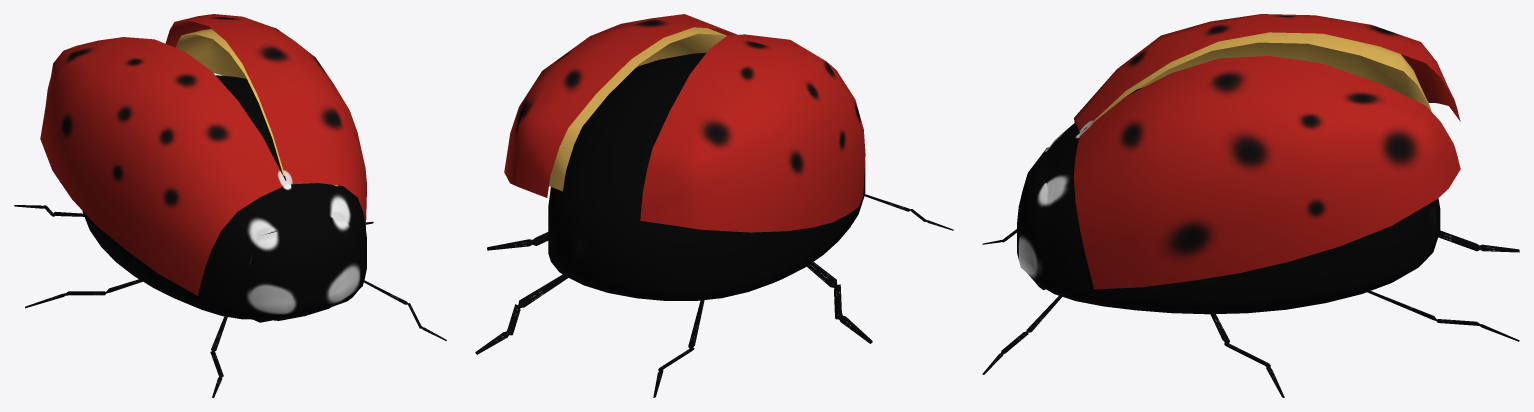
The model's file is Mariquita.fbx.
3 renders of one model, left to right at view 1: azimuth 30°, elevation 25°; view 2: azimuth 150°, elevation 25°; view 3: azimuth 270°, elevation 25°, orthographic. The views are drawn at different scales.
Visible parts, largest first — view 1: Plane.001, Cube, Plane.000, Cylinder, Cylinder.001; view 2: Plane.001, Cube, Plane.000, Cylinder.002, Cylinder.001; view 3: Plane.001, Cube, Plane.000, Cylinder.002, Cylinder, Cylinder.001.
Part boxes in pixels (x1,y1,x2,y2): Plane.001: (40,14,366,295); Cube: (82,75,366,322); Plane.000: (176,29,337,186); Cylinder: (210,280,446,397); Cylinder.001: (25,221,373,308); Plane.001: (504,14,865,232); Cube: (548,52,865,300); Plane.000: (549,27,726,191); Cylinder.002: (475,274,704,397); Cylinder.001: (487,232,872,343); Plane.001: (1073,14,1460,289); Cube: (1017,87,1440,314); Plane.000: (1087,32,1431,127); Cylinder.002: (1367,230,1519,341); Cylinder: (982,229,1063,374); Cylinder.001: (1210,314,1284,397).
Size of the model in its own units: 348 by 221 by 405.
